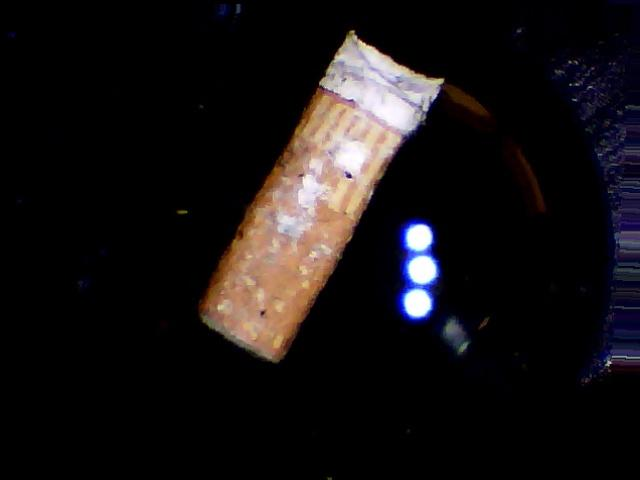megot: (184, 13, 456, 373)
